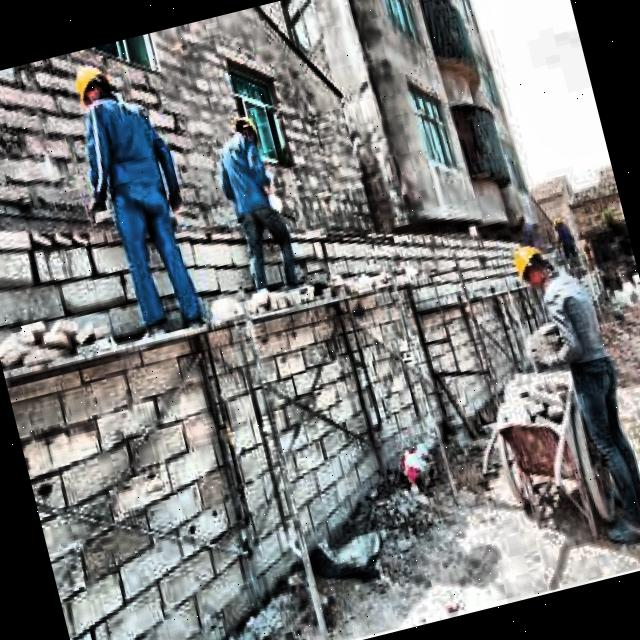helmet: (64, 56, 118, 118), (503, 234, 555, 297), (229, 107, 262, 151)
